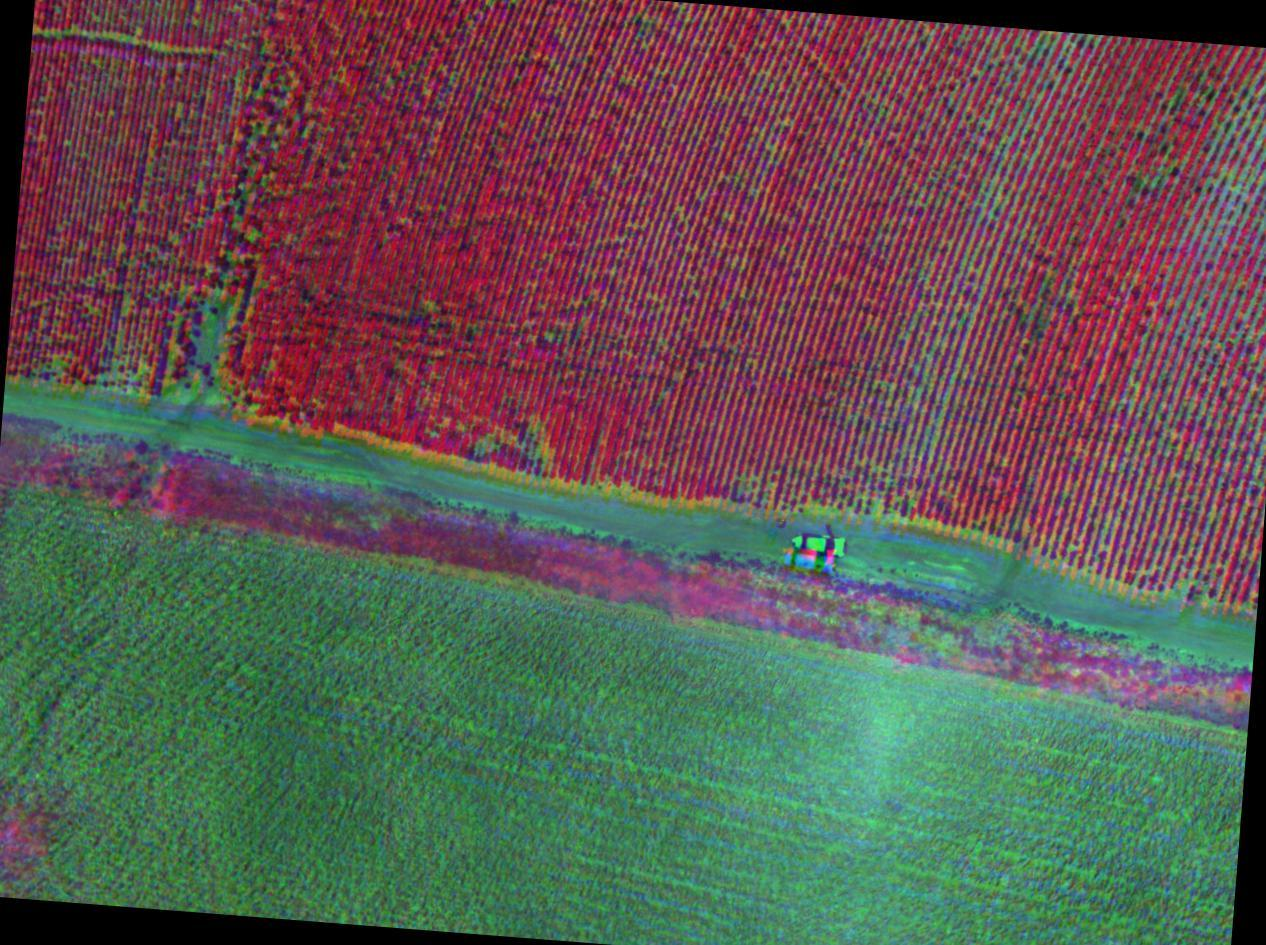dc: (723, 431, 928, 523), (154, 232, 252, 412), (449, 387, 578, 480), (990, 252, 1087, 352)
